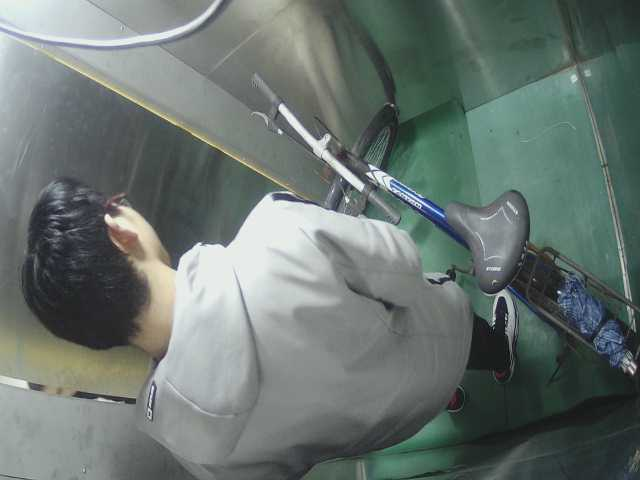bicycle: (242, 60, 640, 383)
person: (18, 187, 518, 467)
